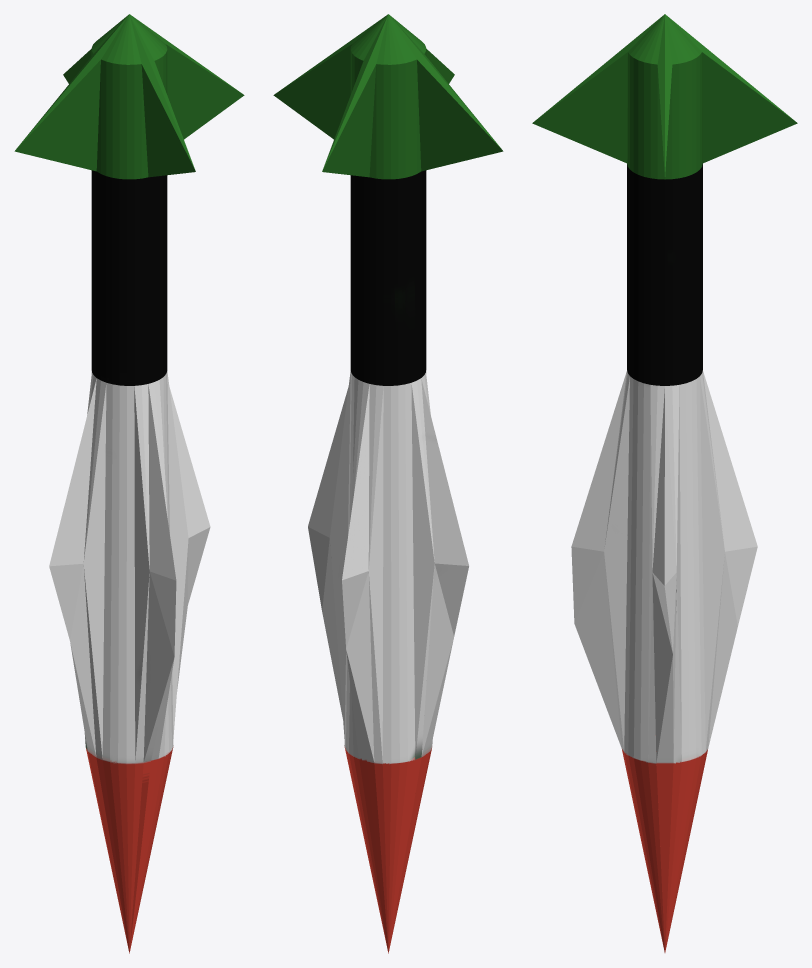
File: missile.fbx
3 renders of one model, left to right at view 1: azimuth 30°, elevation 25°; view 2: azimuth 150°, elevation 25°; view 3: azimuth 270°, elevation 25°, orthographic.
Visible parts, largest first — view 1: missile; view 2: missile; view 3: missile.
Part boxes in pixels (x1=…): missile: x1=14, y1=14, x2=244, y2=953; missile: x1=273, y1=14, x2=503, y2=953; missile: x1=532, y1=14, x2=797, y2=952.
Bounding box in the file's own units: 45.8 × 179 × 45.8.
1 material, 1 textured.
